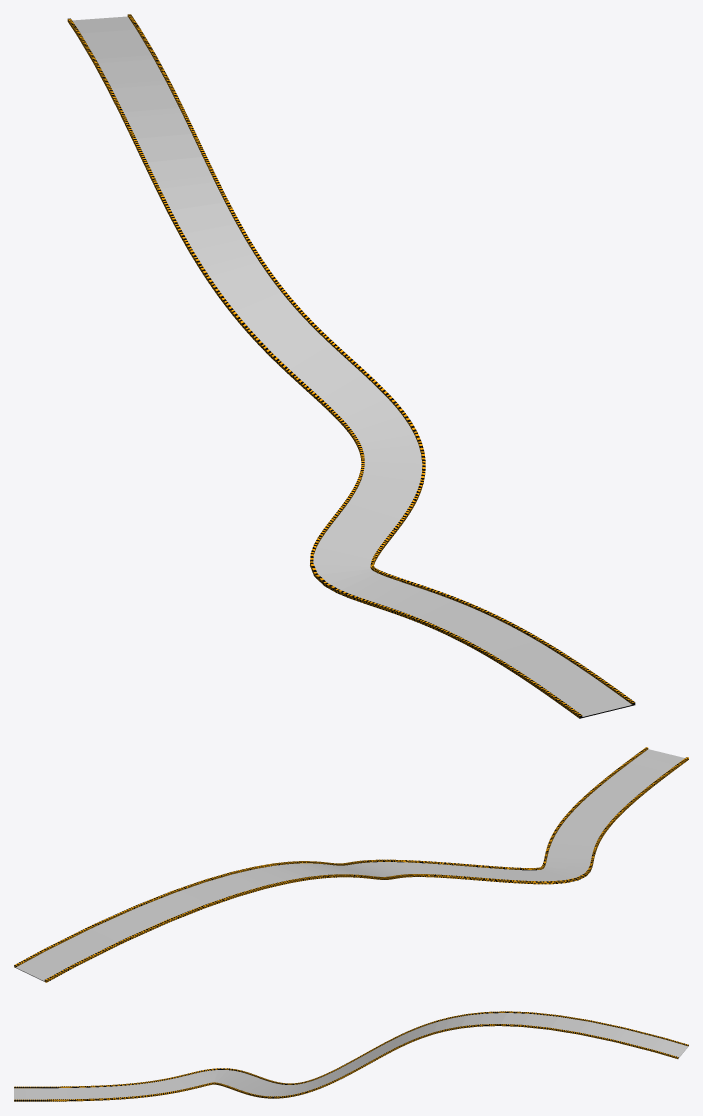
File: pista.obj
3 renders of one model, top to bottom at view 1: azimuth 30°, elevation 25°; view 2: azimuth 150°, elevation 25°; view 3: azimuth 270°, elevation 25°, orthographic. The views are drawn at different scales.
Visible parts, largest first — view 1: Cube_Material.003, Cube_Material.004; view 2: Cube_Material.003, Cube_Material.004; view 3: Cube_Material.003, Cube_Material.004.
Boxes of the visible parts, <box> form: Cube_Material.003: <box>72,16,631,716</box>; Cube_Material.004: <box>67,14,635,718</box>; Cube_Material.003: <box>15,749,684,981</box>; Cube_Material.004: <box>14,747,688,982</box>; Cube_Material.003: <box>14,1013,688,1099</box>; Cube_Material.004: <box>14,1011,688,1101</box>.
Size of the model in its own units: 44.44 by 28.84 by 188.
